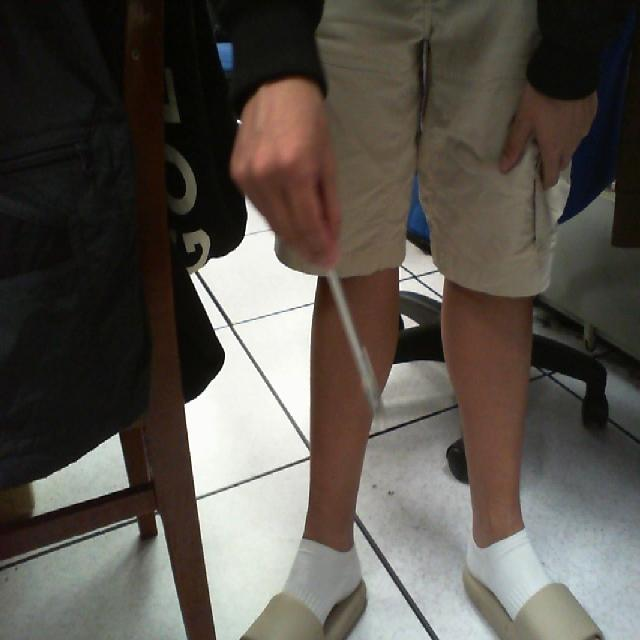Pen: (314, 232, 395, 452)
